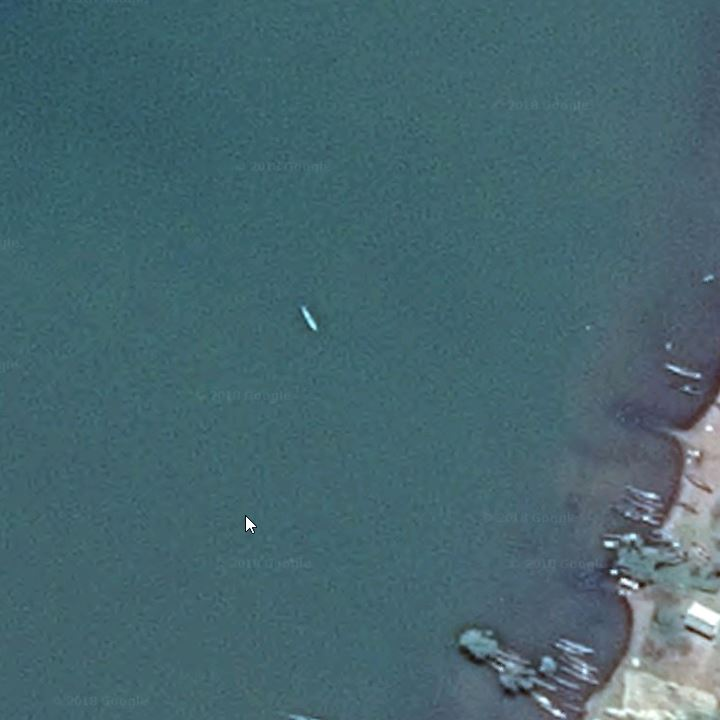boat: (655, 357, 711, 385), (293, 295, 327, 341), (557, 664, 600, 689), (620, 481, 668, 503), (529, 692, 568, 719), (561, 648, 603, 671), (619, 509, 668, 528), (555, 633, 599, 654), (494, 645, 535, 666), (622, 495, 668, 513), (670, 494, 703, 518), (548, 670, 584, 691), (565, 658, 599, 680), (681, 469, 712, 493), (549, 641, 588, 659), (687, 539, 711, 565), (528, 676, 559, 695), (560, 699, 590, 715), (494, 656, 525, 669), (485, 663, 512, 675)
